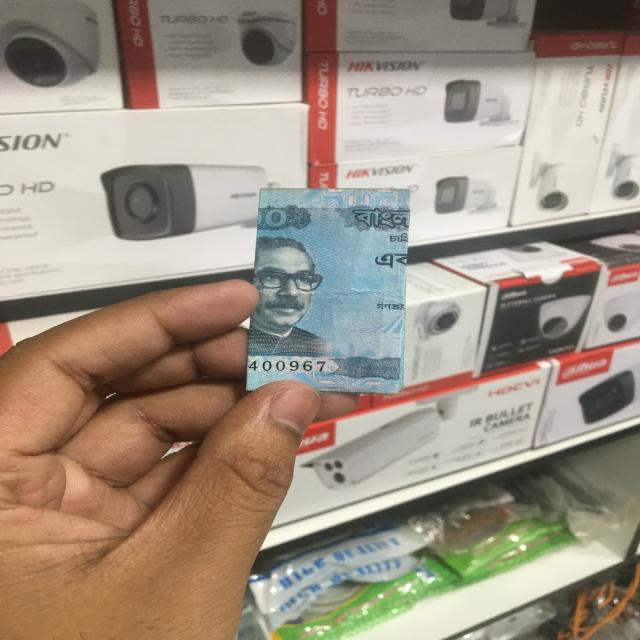Taka: (254, 183, 414, 401)
